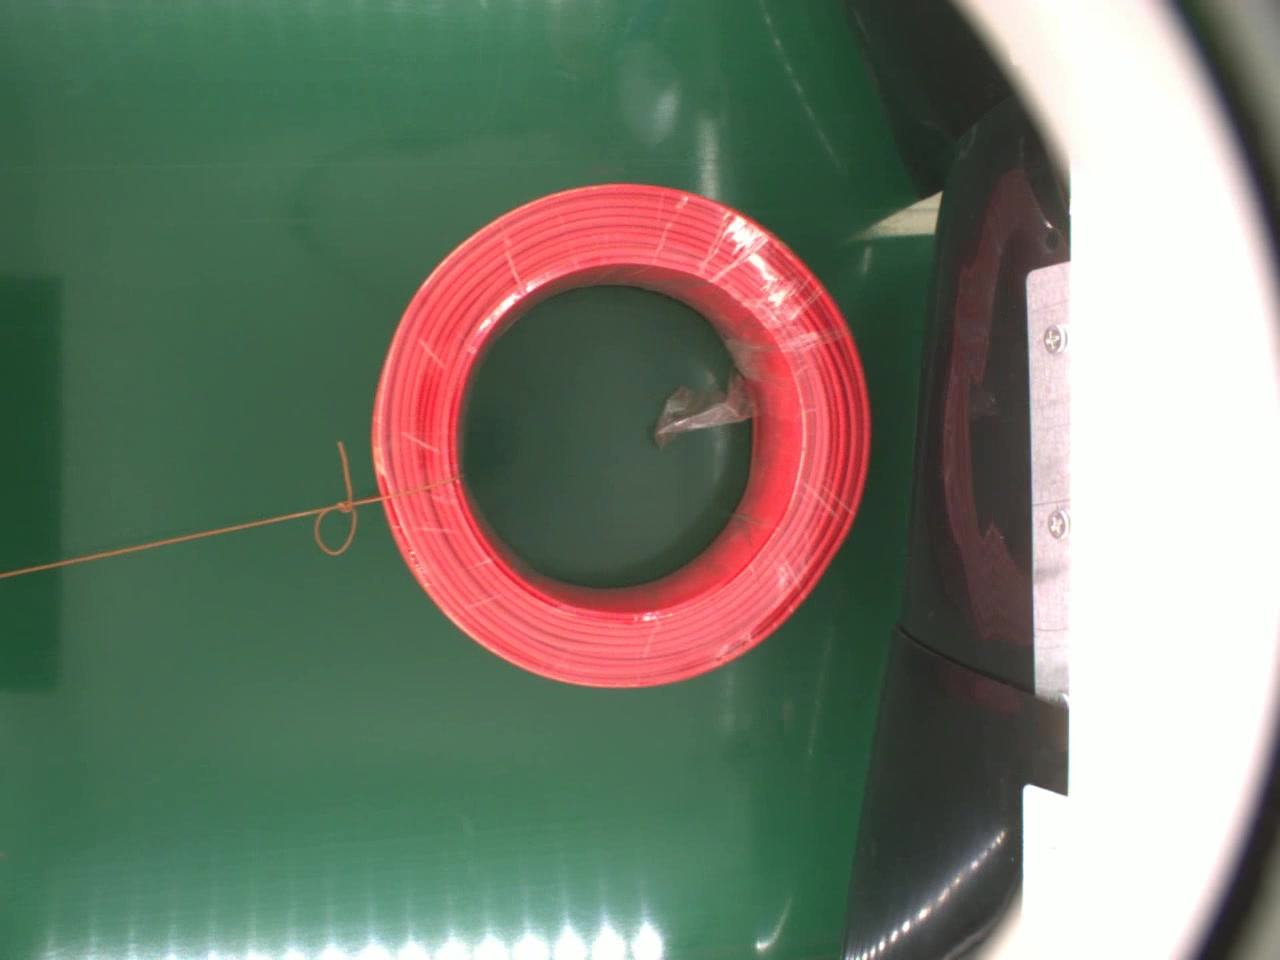red: (364, 175, 883, 700)
